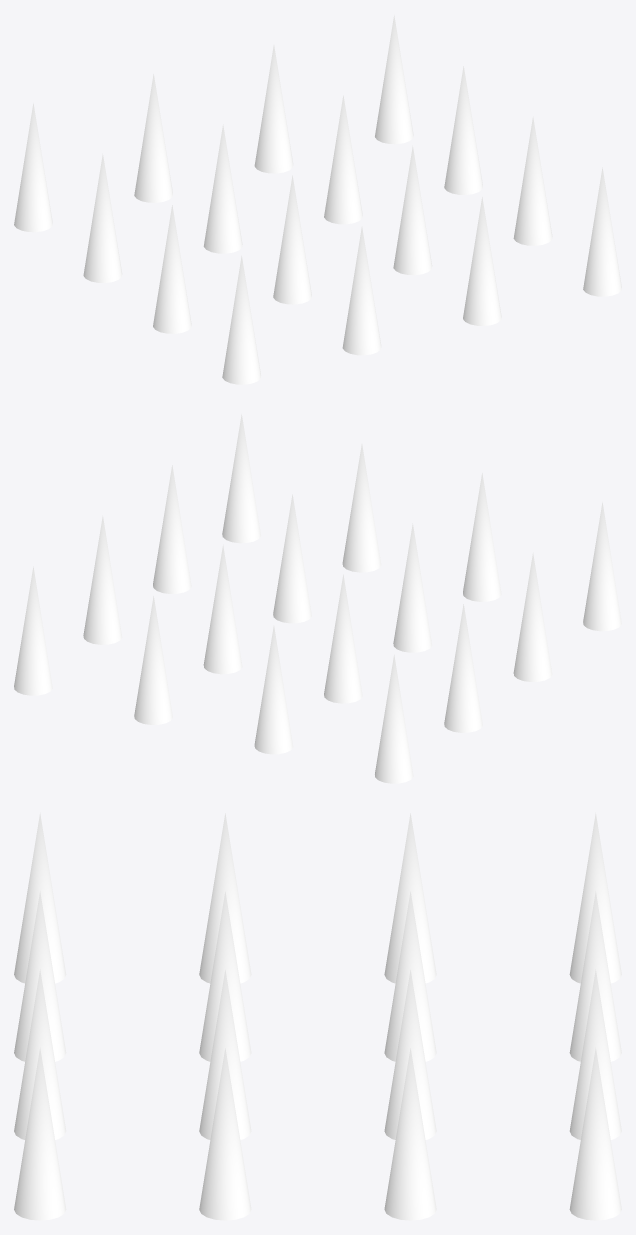
The model's file is Toondra_Trap Corn.fbx.
3 views of the same model, one above another, from view 1: azimuth 30°, elevation 25°; view 2: azimuth 150°, elevation 25°; view 3: azimuth 270°, elevation 25° (orthographic). The views are drawn at different scales.
Parts seen in each view (by area): view 1: Cone.004; view 2: Cone.004; view 3: Cone.004.
Boxes of the visible parts, <box> form: Cone.004: <box>14,15,621,384</box>; Cone.004: <box>14,414,621,783</box>; Cone.004: <box>14,812,621,1220</box>.
Bounding box in the file's own units: 68.18 × 20.1 × 68.18.
